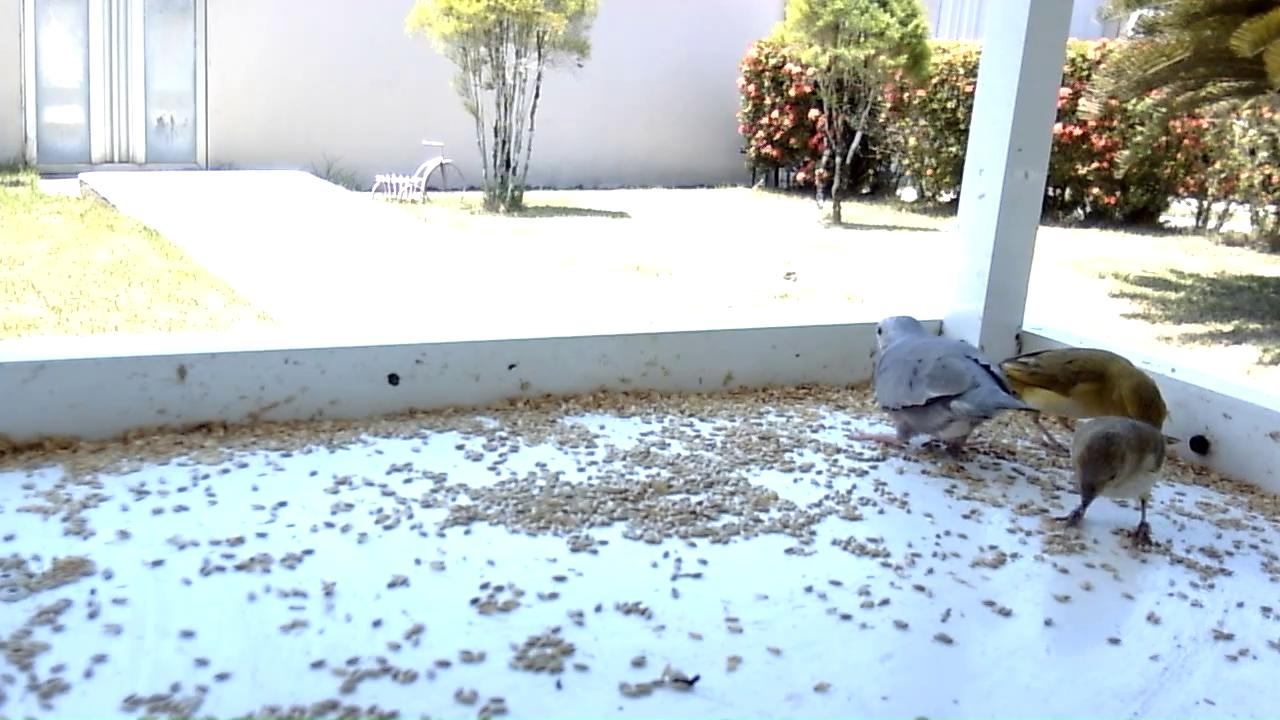canario_do_amazonas: (1001, 346, 1172, 456), (1047, 417, 1182, 551)
rolinha: (841, 314, 1036, 454)
